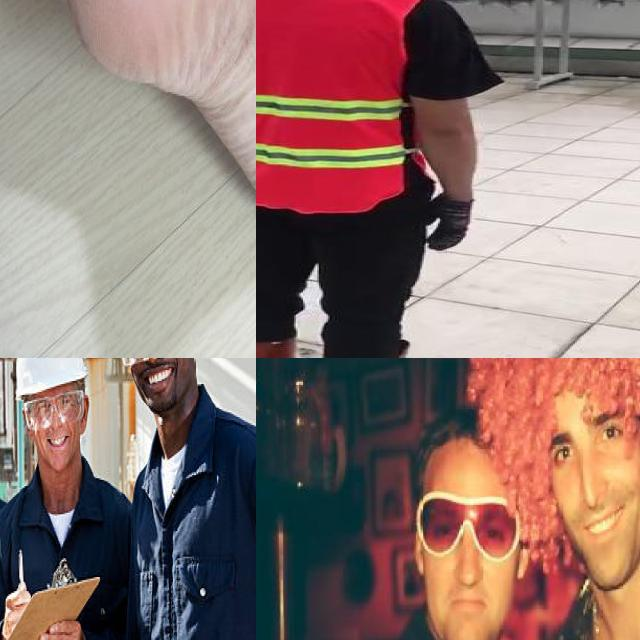Barefoots: (56, 0, 256, 203)
No_Ear-Protection: (20, 409, 34, 439), (81, 396, 92, 432)
face_nomask: (414, 493, 520, 629), (545, 410, 640, 554), (134, 358, 191, 406), (35, 421, 81, 469)
glasses: (414, 490, 522, 564), (24, 391, 85, 431)
hand_glove: (424, 192, 472, 250)
hand_noglove: (1, 584, 31, 640), (2, 589, 32, 640), (38, 619, 86, 640)
head_helmet: (16, 358, 88, 397)
head_nohelmet: (486, 358, 640, 431), (418, 415, 509, 475)
person: (256, 0, 518, 358)
vest: (256, 0, 425, 212)
